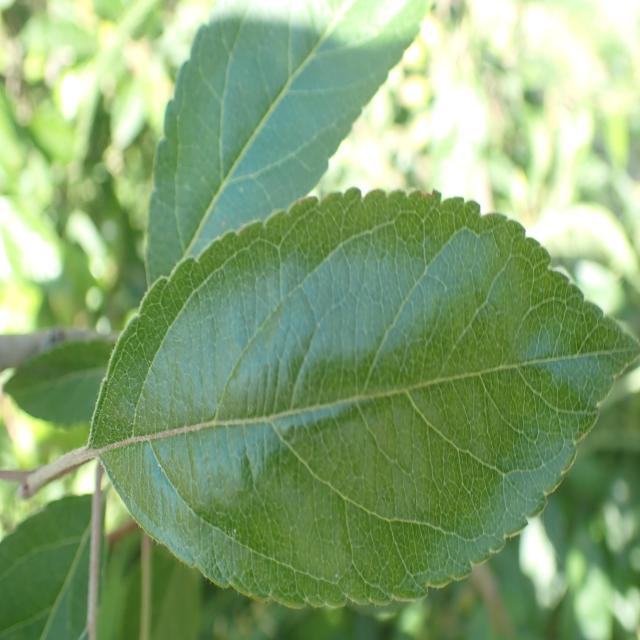healthy: (89, 186, 640, 611), (146, 0, 432, 291), (0, 492, 110, 640)
